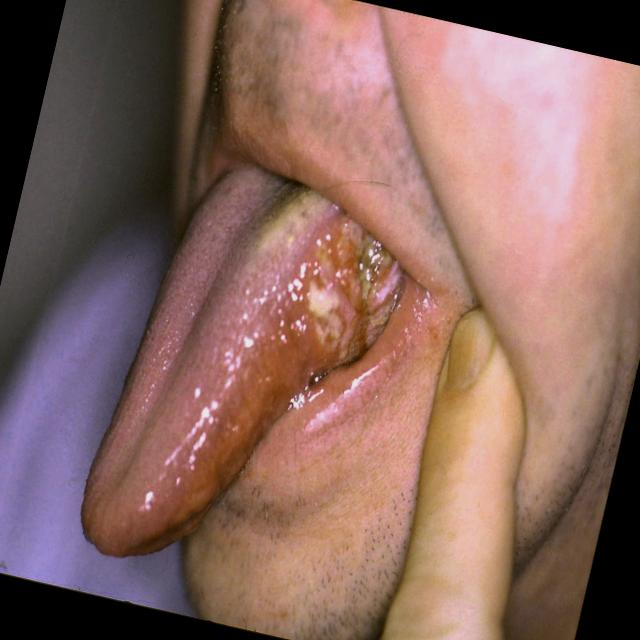Cancer: (257, 188, 440, 391)
